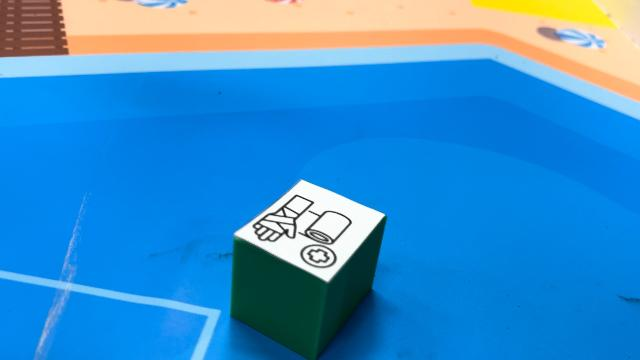bandage: (229, 178, 387, 360)
